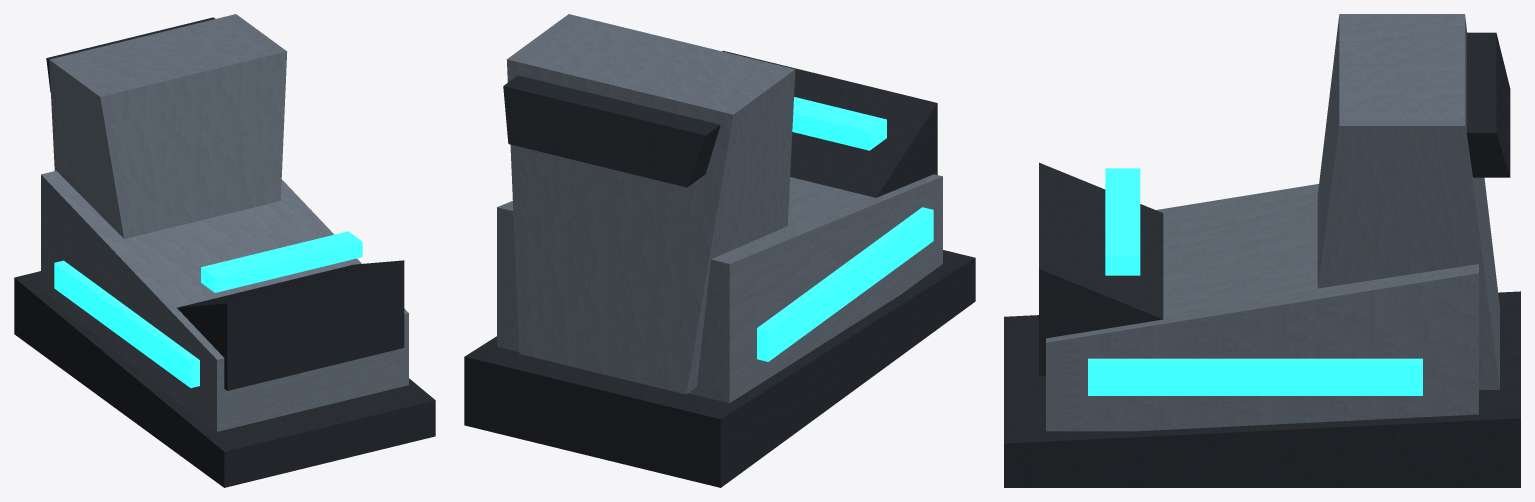
Rendered from future_shoe.gltf.
The picture shows the model from 3 angles, left to right: view 1: azimuth 30°, elevation 25°; view 2: azimuth 150°, elevation 25°; view 3: azimuth 270°, elevation 25°; orthographic projection. The views are drawn at different scales.
Parts seen in each view (by area): view 1: Ionstep Future Shoe; view 2: Ionstep Future Shoe; view 3: Ionstep Future Shoe.
Part boxes in pixels (x1,y1,x2,y2): Ionstep Future Shoe: (14,14,435,487); Ionstep Future Shoe: (464,14,975,487); Ionstep Future Shoe: (1004,14,1520,487).
Size of the model in its own units: 0.215 by 0.28 by 0.37.
Materials: 3 (3 with a texture image).
